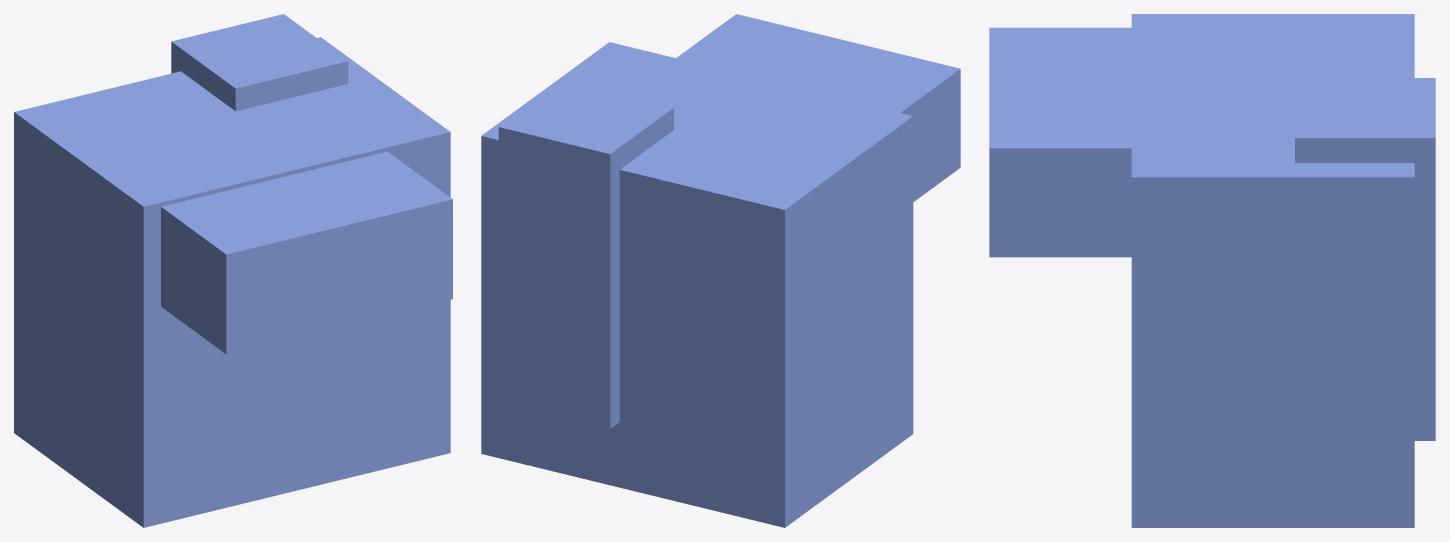
Rendered from floor5.fbx.
3 renders of one model, left to right at view 1: azimuth 30°, elevation 25°; view 2: azimuth 150°, elevation 25°; view 3: azimuth 270°, elevation 25°, orthographic. The views are drawn at different scales.
Visible parts, largest first — view 1: Cube.015, Cube.016, Cube.017; view 2: Cube.015, Cube.017, Cube.016; view 3: Cube.015, Cube.016, Cube.017.
Boxes of the visible parts, <box> form: Cube.015: <box>14,37,450,527</box>; Cube.016: <box>161,151,452,354</box>; Cube.017: <box>171,14,348,111</box>; Cube.015: <box>481,42,913,527</box>; Cube.017: <box>498,80,673,428</box>; Cube.016: <box>676,14,960,201</box>; Cube.015: <box>1131,14,1414,527</box>; Cube.016: <box>989,27,1131,257</box>; Cube.017: <box>1295,78,1435,440</box>.
Size of the model in its own units: 100 by 107 by 115.
